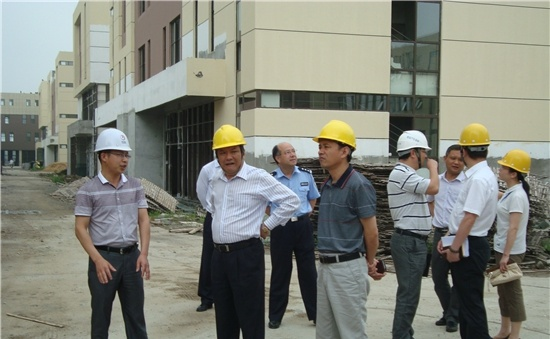none: (269, 138, 298, 170), (442, 142, 466, 176)
white: (91, 125, 132, 179), (394, 127, 432, 172)
yellow: (312, 121, 358, 174), (210, 123, 247, 173), (494, 146, 533, 187), (458, 122, 491, 164)
